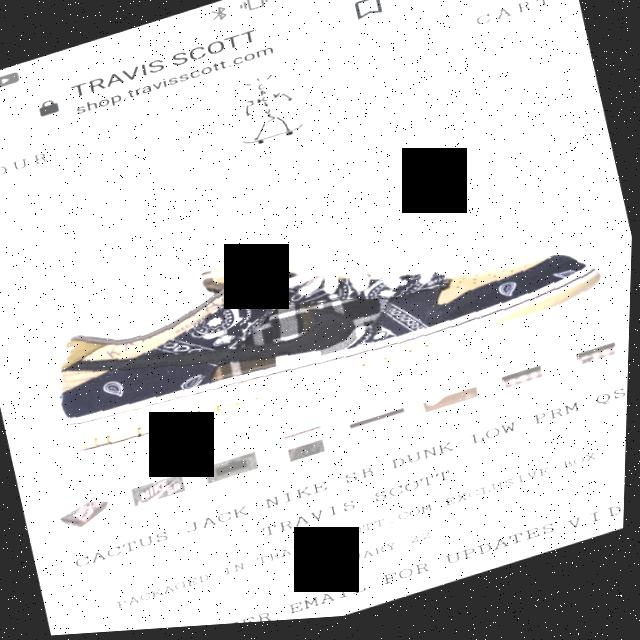shoe: (11, 157, 614, 469)
